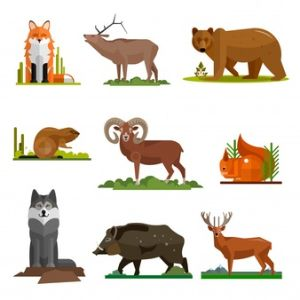bear: (189, 24, 290, 81)
fox: (23, 15, 77, 84)
wolf: (26, 185, 77, 270)
